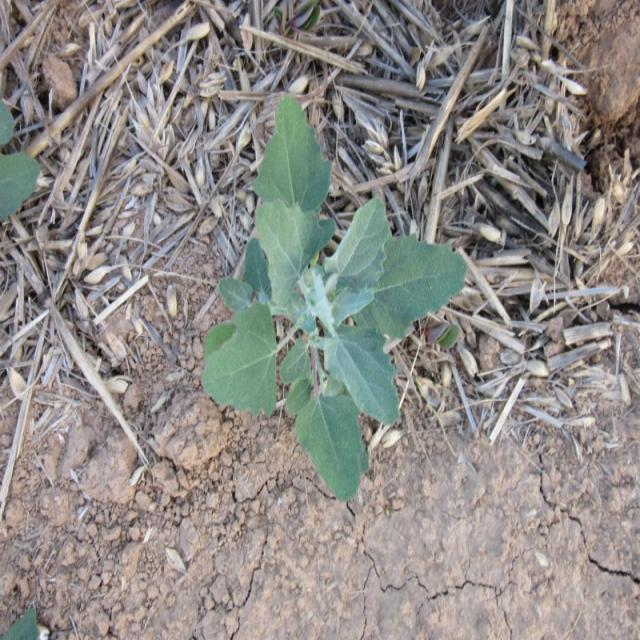ca: (201, 96, 469, 500)
